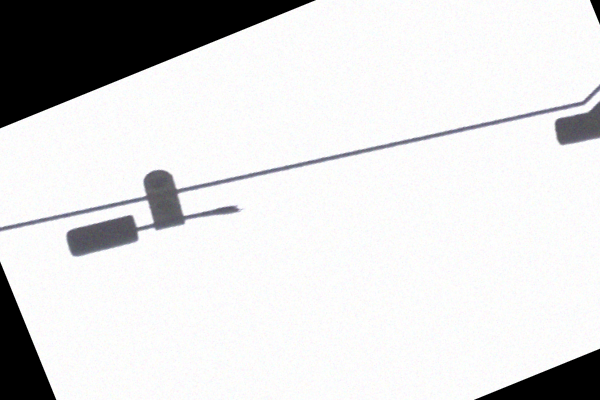damper_defect: (63, 163, 247, 260)
